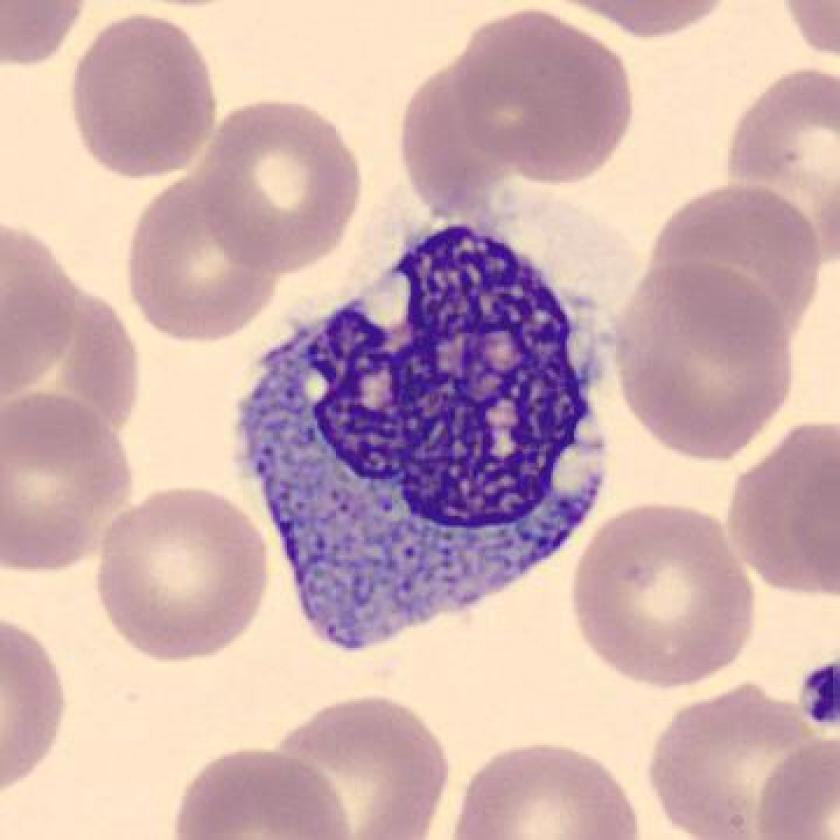monocyte: (223, 193, 636, 677)
